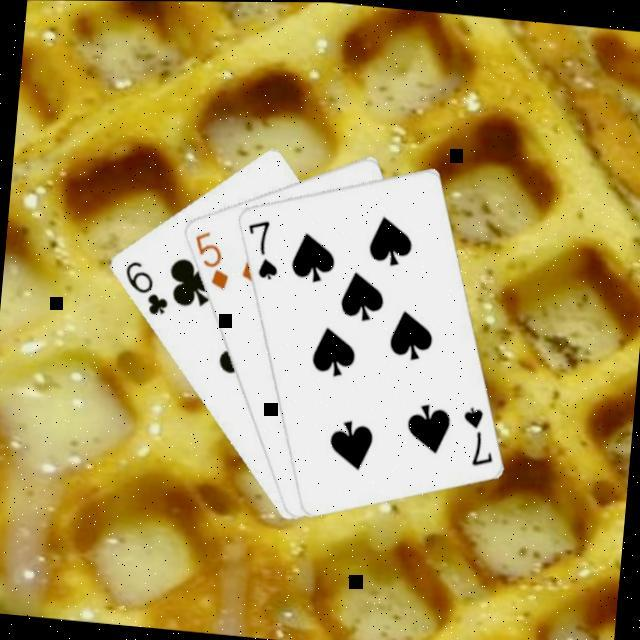5D: (185, 226, 232, 290)
6C: (116, 255, 174, 318)
7S: (454, 400, 498, 469), (238, 214, 283, 281)
